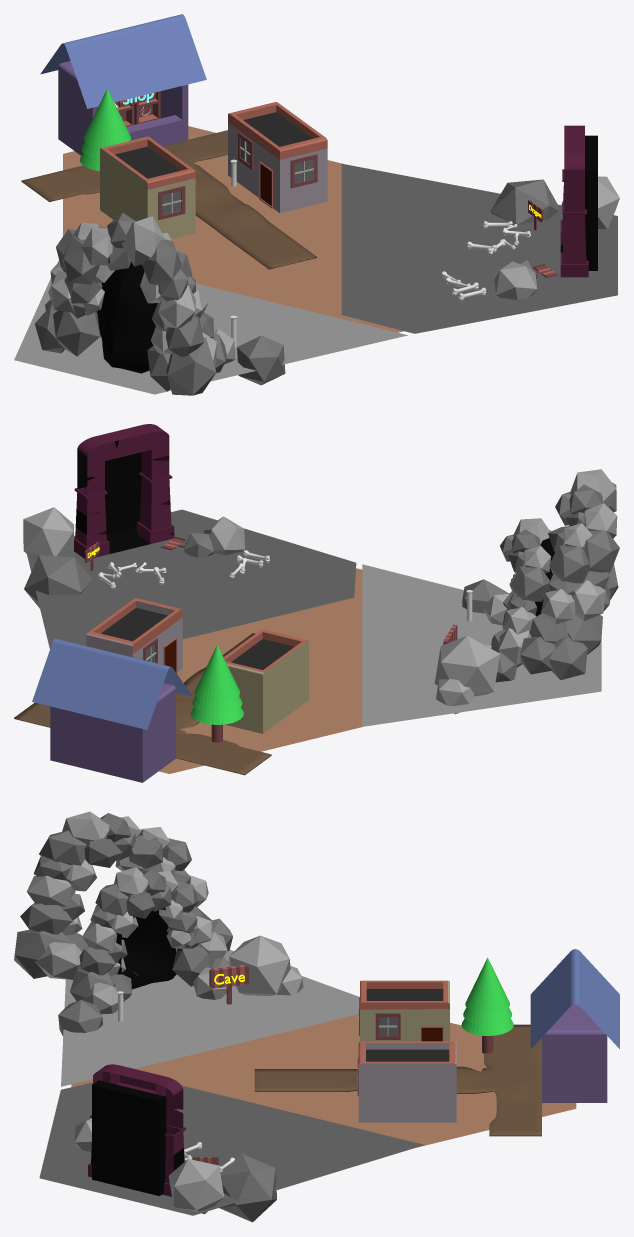
File: gameWorld.glb
The picture shows the model from 3 angles, top to bottom: view 1: azimuth 30°, elevation 25°; view 2: azimuth 150°, elevation 25°; view 3: azimuth 270°, elevation 25°; orthographic projection. The views are drawn at different scales.
Visible parts, largest first — view 1: Plane, Cave Entrance, World Plane, Shop, Plane.001, House2, Road, House1, Dragon Lair, Dragon lair stones, Tree, Stonese (+1 smaller); view 2: Plane, Cave Entrance, Plane.001, Shop, World Plane, Dragon Lair, House1, Dragon lair stones, House2, Stonese, Road, Tree (+1 smaller); view 3: Cave Entrance, Plane, Plane.001, World Plane, Dragon Lair, Shop, Road, House2, House1, Dragon lair stones, Stonese, Tree (+1 smaller).
Part boxes in pixels (bbox=[...]): Plane: bbox=[341, 163, 617, 333]; Cave Entrance: bbox=[34, 212, 235, 395]; World Plane: bbox=[63, 126, 403, 332]; Shop: bbox=[40, 14, 206, 155]; Plane.001: bbox=[14, 260, 407, 394]; House2: bbox=[228, 102, 327, 212]; Road: bbox=[21, 130, 316, 269]; House1: bbox=[100, 136, 195, 238]; Dragon Lair: bbox=[560, 125, 597, 277]; Dragon lair stones: bbox=[490, 176, 619, 299]; Tree: bbox=[80, 88, 130, 170]; Stonese: bbox=[237, 335, 285, 385]; Plane: bbox=[27, 509, 356, 648]; Cave Entrance: bbox=[478, 469, 619, 682]; Plane.001: bbox=[362, 564, 601, 726]; Shop: bbox=[32, 638, 192, 782]; World Plane: bbox=[159, 568, 362, 773]; Dragon Lair: bbox=[74, 424, 174, 558]; House1: bbox=[223, 629, 308, 733]; Dragon lair stones: bbox=[23, 507, 244, 608]; House2: bbox=[86, 598, 182, 673]; Stonese: bbox=[434, 579, 507, 714]; Road: bbox=[14, 633, 271, 775]; Tree: bbox=[190, 645, 243, 742]; Cave Entrance: bbox=[14, 811, 232, 1014]; Plane: bbox=[39, 1082, 424, 1215]; Plane.001: bbox=[61, 950, 359, 1086]; World Plane: bbox=[71, 1014, 576, 1147]; Dragon Lair: bbox=[88, 1064, 185, 1196]; Shop: bbox=[530, 949, 619, 1102]; Road: bbox=[254, 1024, 541, 1136]; House2: bbox=[357, 1041, 456, 1122]; House1: bbox=[358, 980, 449, 1041]; Dragon lair stones: bbox=[74, 1118, 276, 1222]; Stonese: bbox=[58, 935, 303, 1036]; Tree: bbox=[461, 957, 513, 1053].
Bounding box in the file's own units: 25.11 × 7.86 × 23.2.
